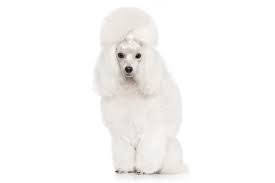Bulldog: (75, 5, 214, 181)
